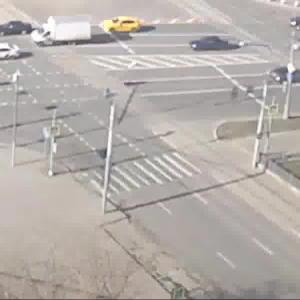car: (27, 22, 91, 48), (183, 34, 231, 58), (1, 17, 36, 42), (97, 19, 139, 37), (1, 42, 21, 65), (278, 67, 300, 85)
